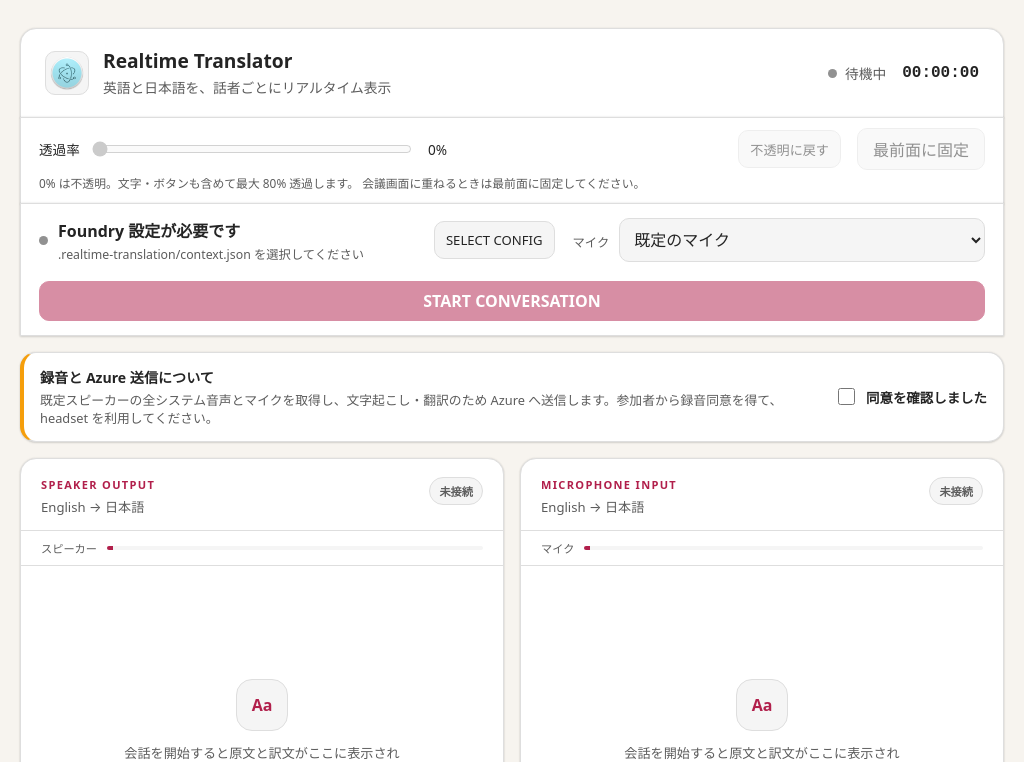
Test: browser authentication flow › does not record when Foundry rejects access after successful sign-in
This screenshot has width=1024, height=762.
Click the checkbox labelled "同意を確認しました".
click(846, 397)  # box x1=838 y1=388 x2=855 y2=405
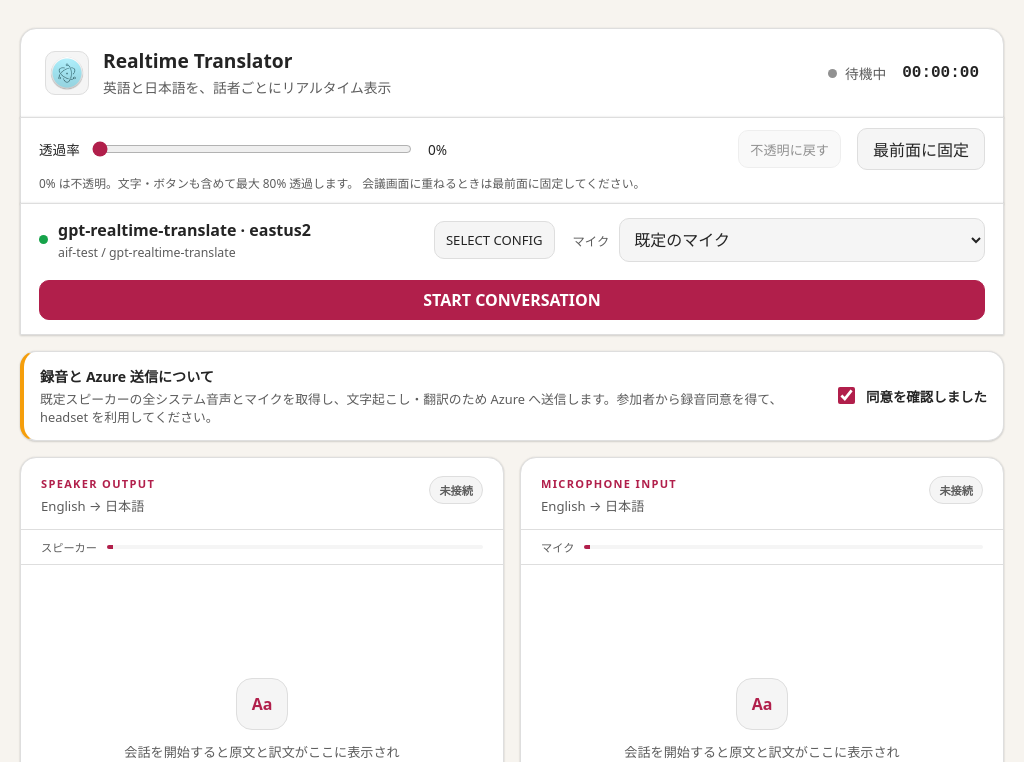
Check: the button "START CONVERSATION" is enabled
Click the button "START CONVERSATION".
click(512, 300)  # box x1=39 y1=280 x2=985 y2=320
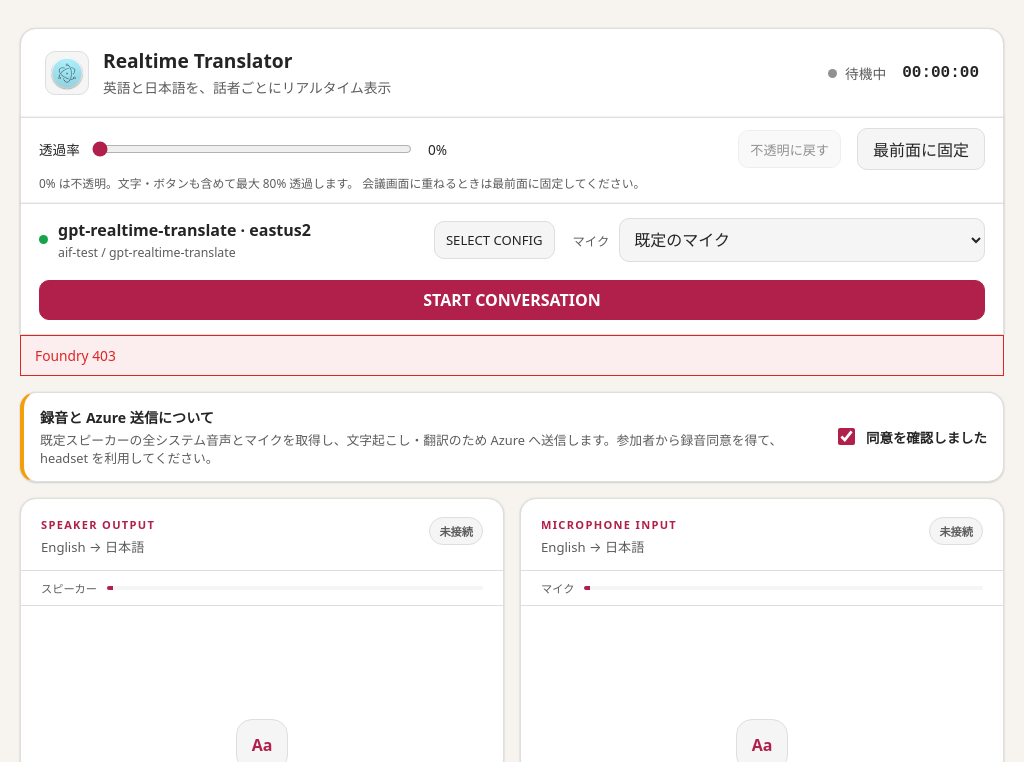
Check: the text "Foundry 403" is shown, box x1=20 y1=335 x2=1004 y2=376
